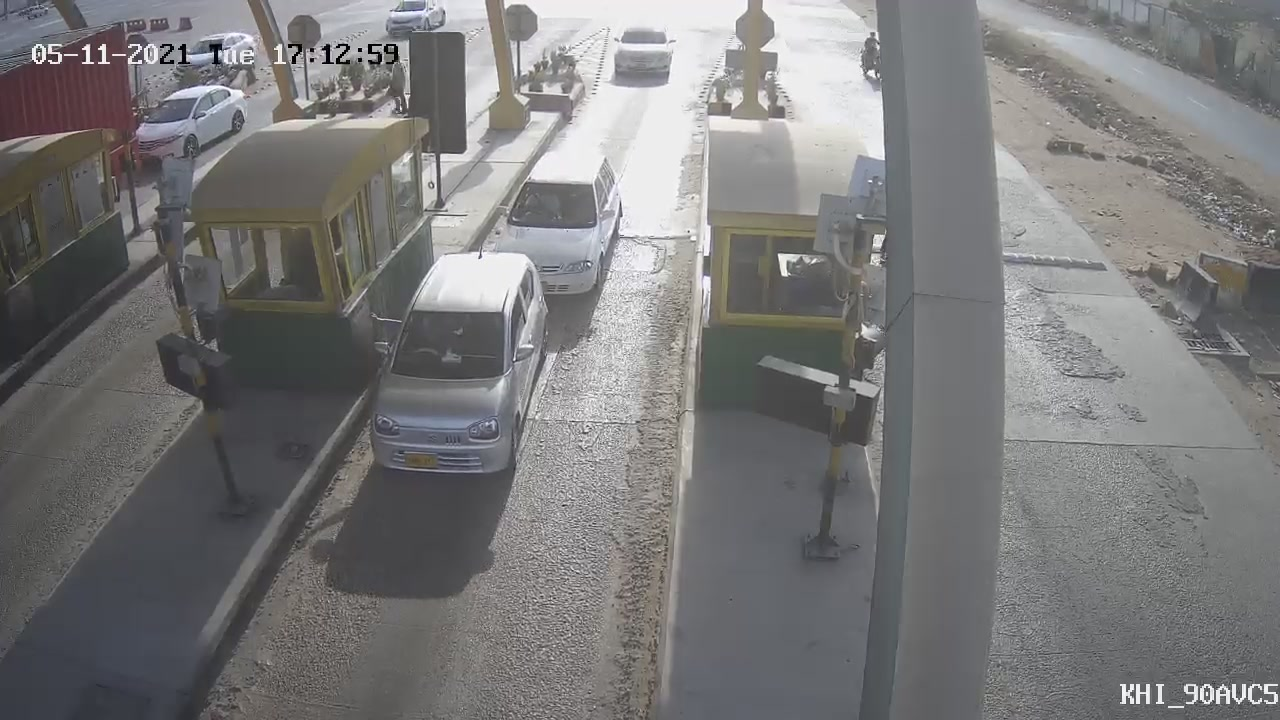F1: (340, 233, 578, 496), (474, 140, 643, 320)
